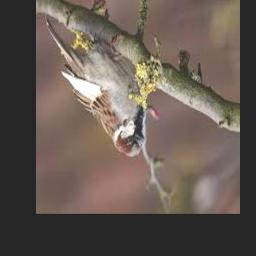Sparrow: (45, 15, 144, 158)
